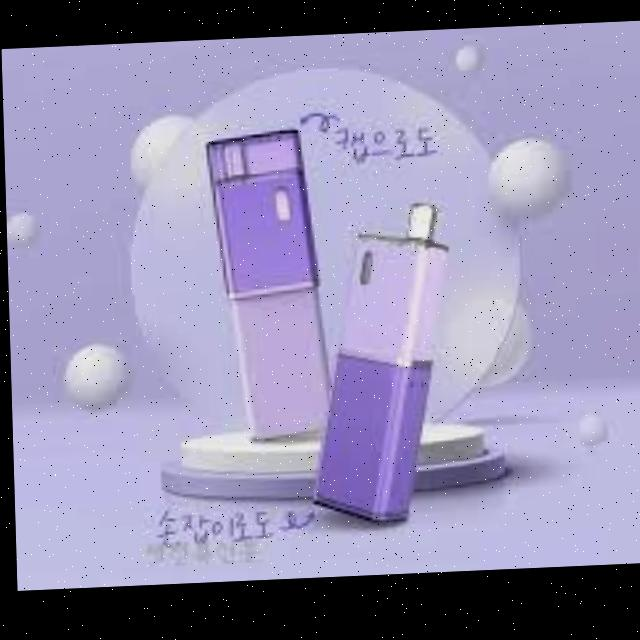vape: (308, 202, 448, 530), (203, 132, 339, 446)
